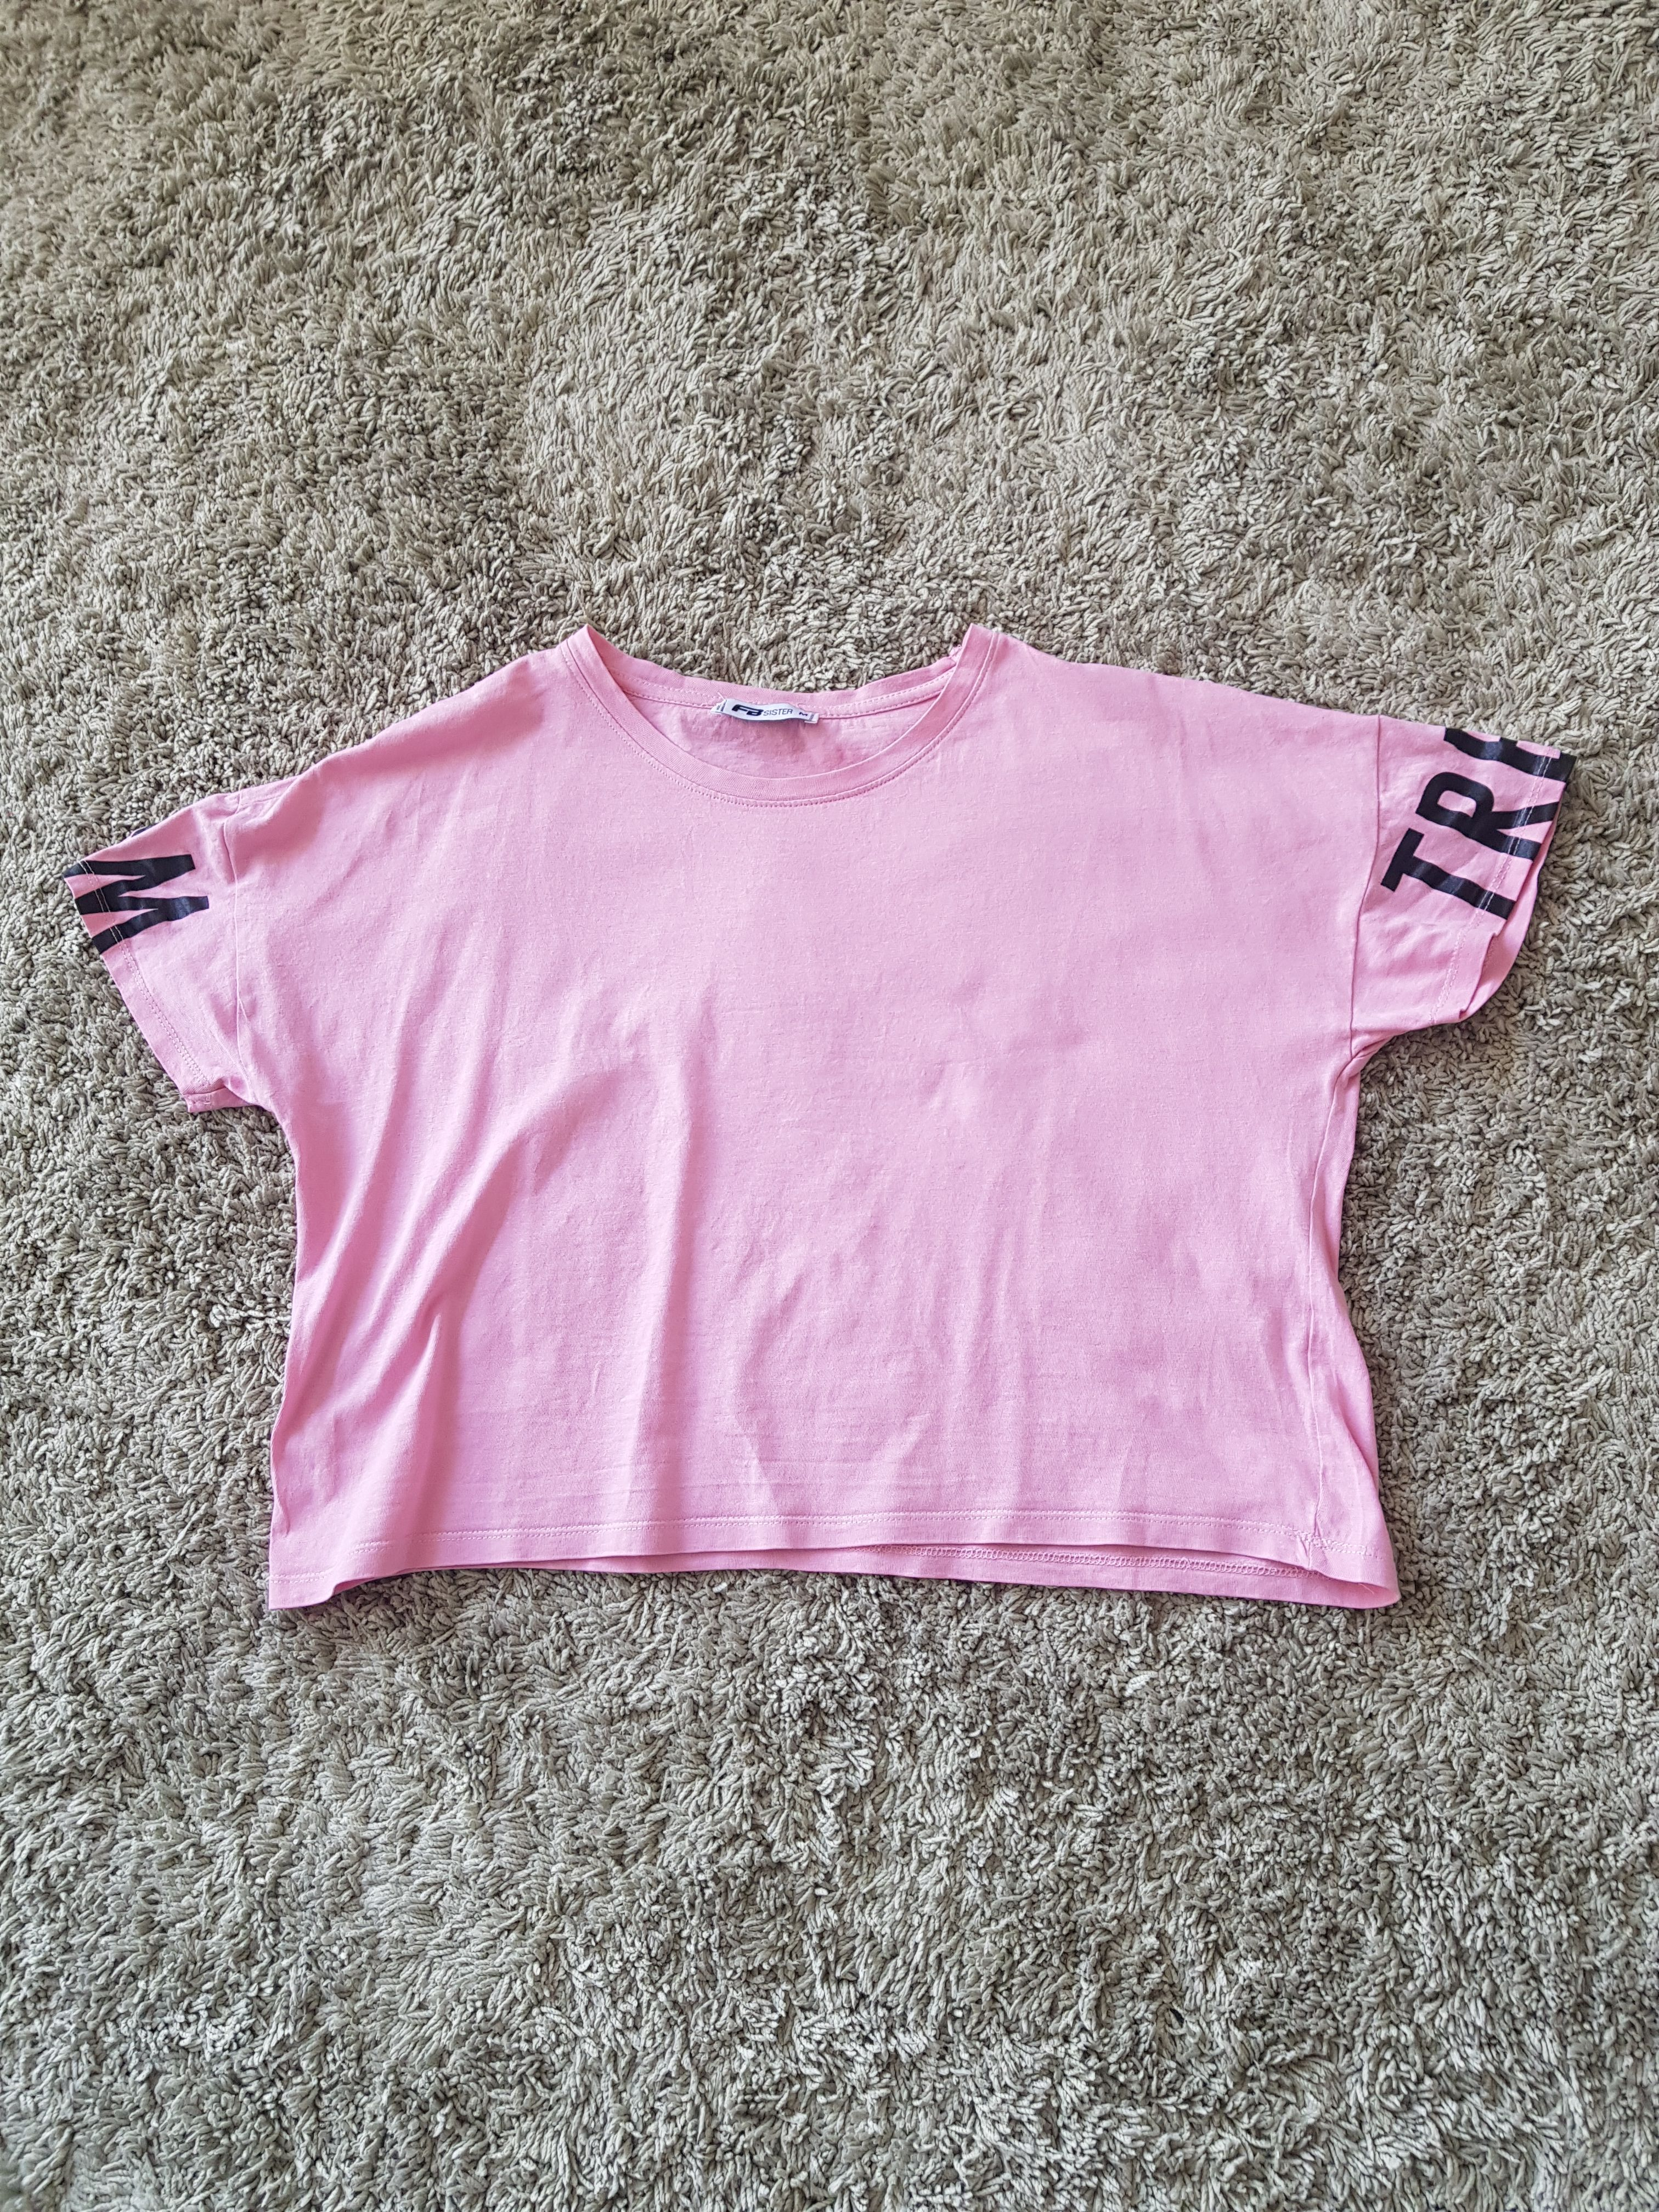clothes: (61, 624, 1572, 1642)
